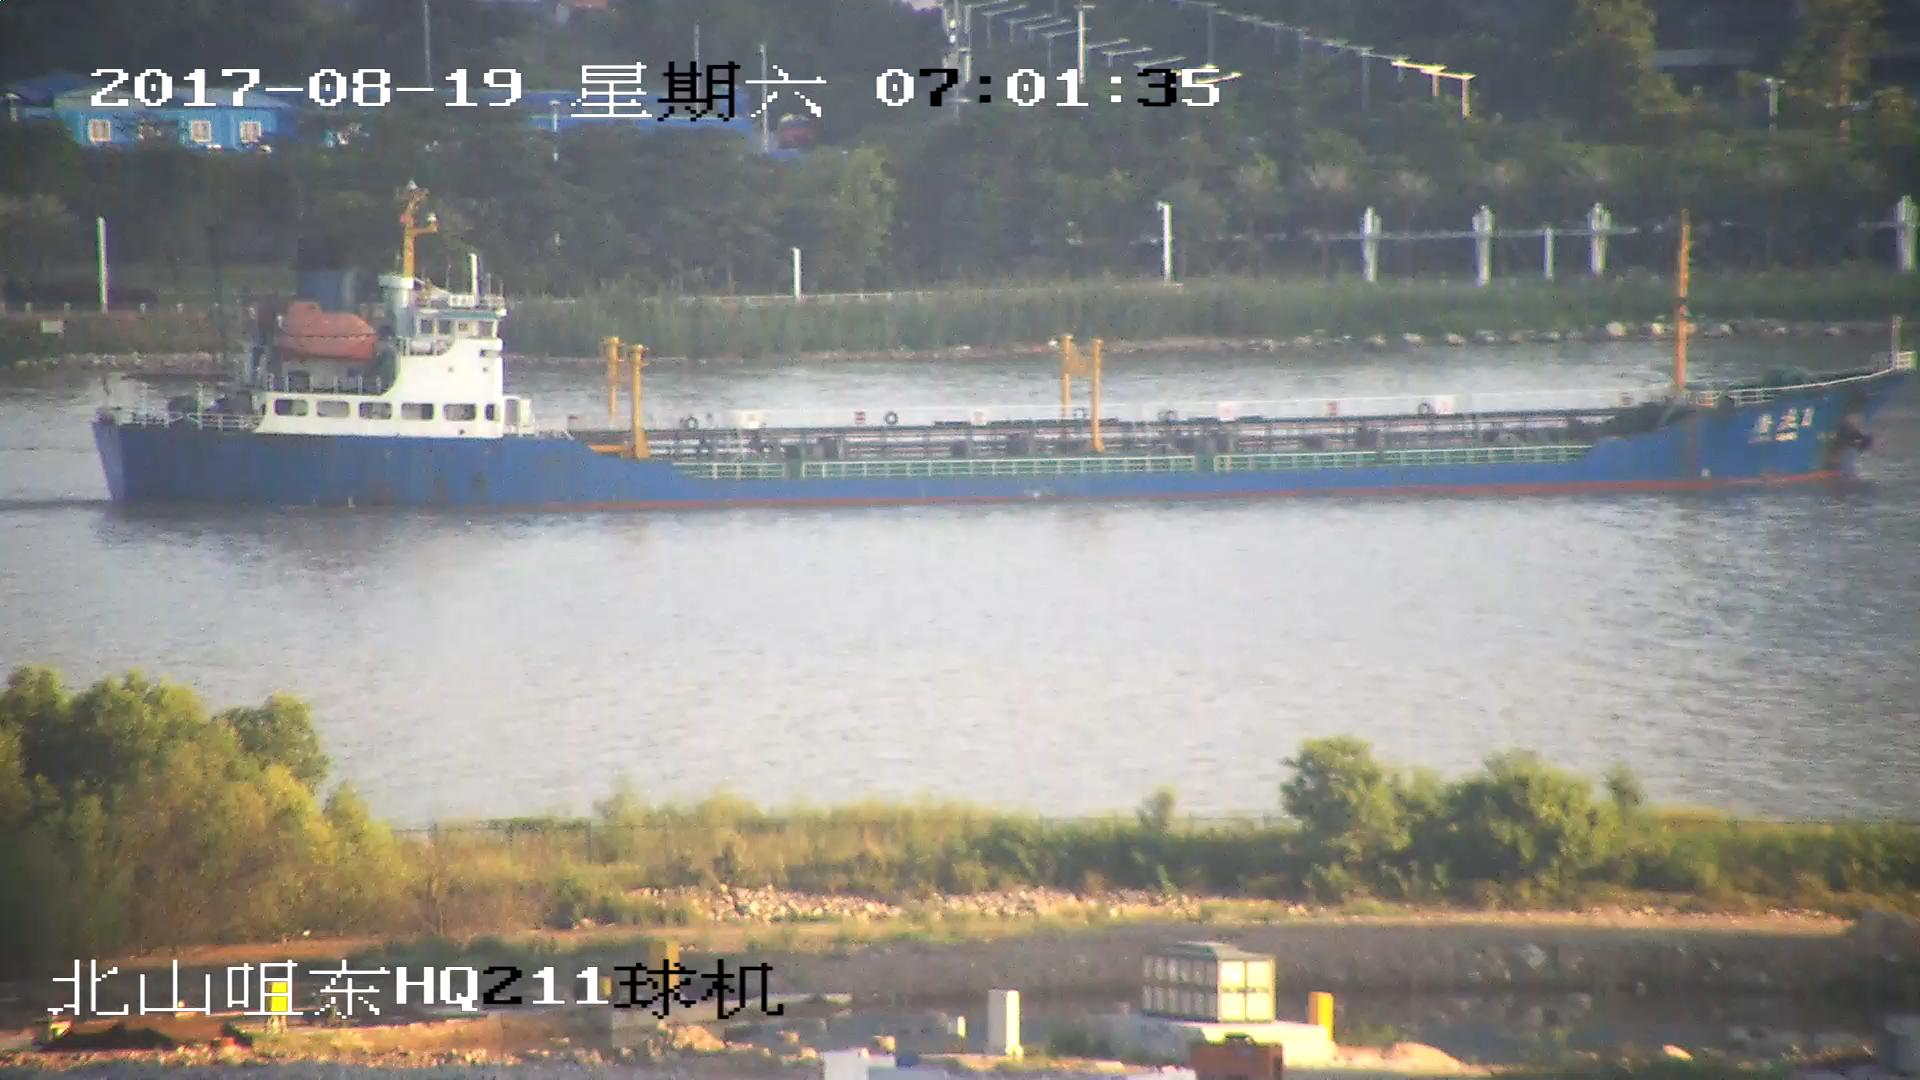general cargo ship: (91, 202, 1909, 508)
